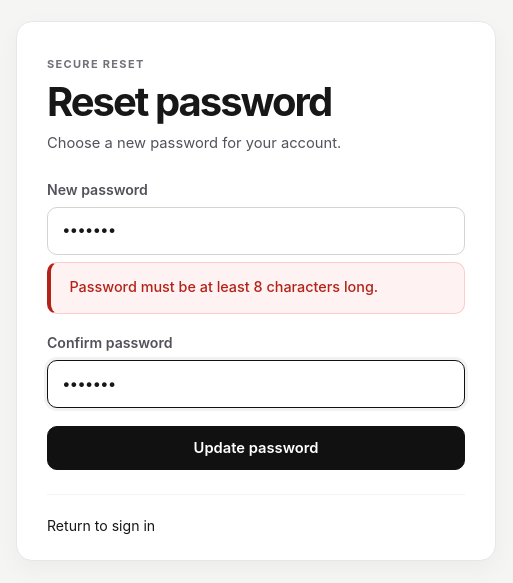
Test: password reset OTP pages › verifies the OTP, resets the password with the returned capability, and reports errors
Earlier steps of the test are not shown.
Later steps or results of the test are not shown.
Expected: the text "Password must be at least 8 characters long." is shown, [47,262,465,314]
Click the button "Update password" at (256, 448), box [47,426,465,470]
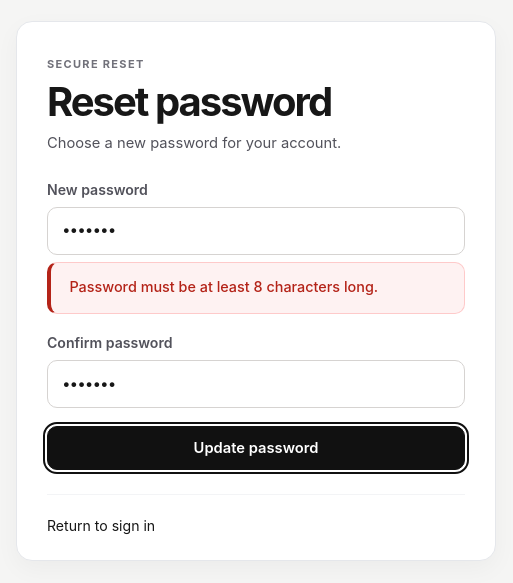
Clear the password field labelled "New password Password must be at least 8 characters long." at (256, 231), box [47,207,465,255]
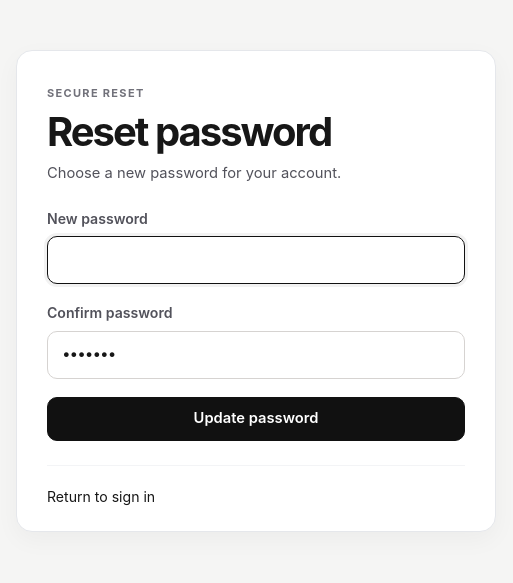
Clear the password field labelled "Confirm password" at (256, 354), box [47,330,465,378]
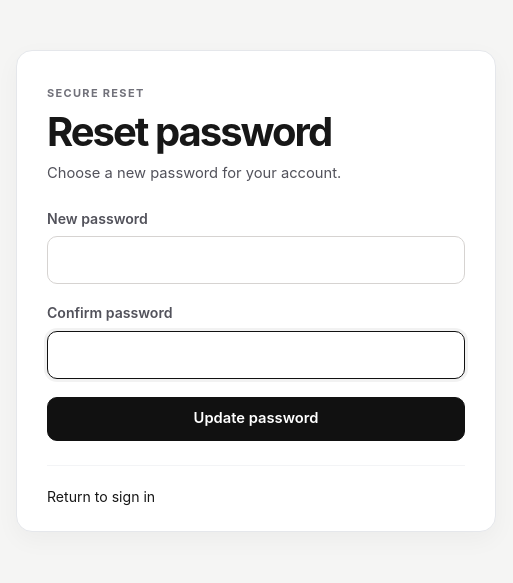
Type "Pass1234" into the password field labelled "New password" at (256, 260), box [47,236,465,284]
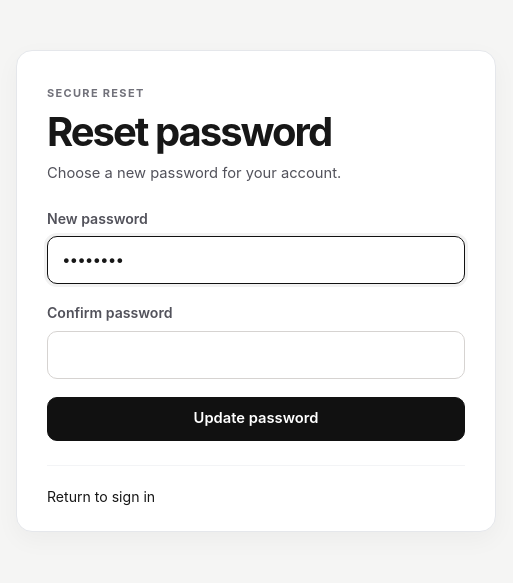
Type "Pass1234" into the password field labelled "Confirm password" at (256, 354), box [47,330,465,378]
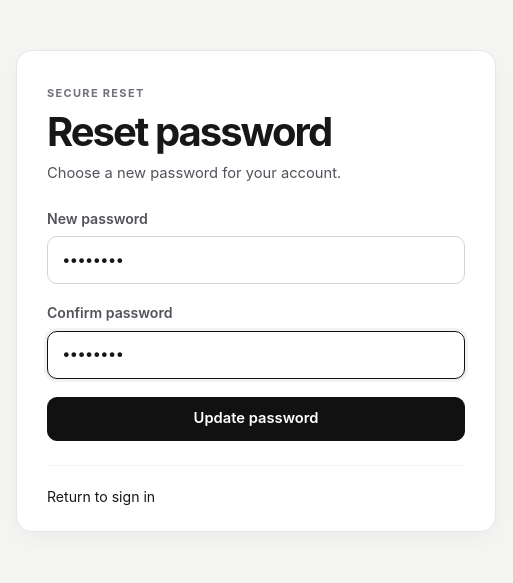
Click the button "Update password" at (256, 418), box [47,396,465,440]
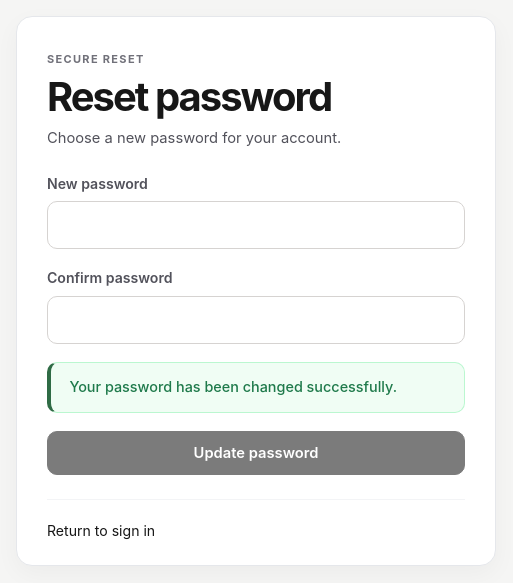
Expected: the text "Your password has been changed successfully." is shown, [47,362,465,413]
